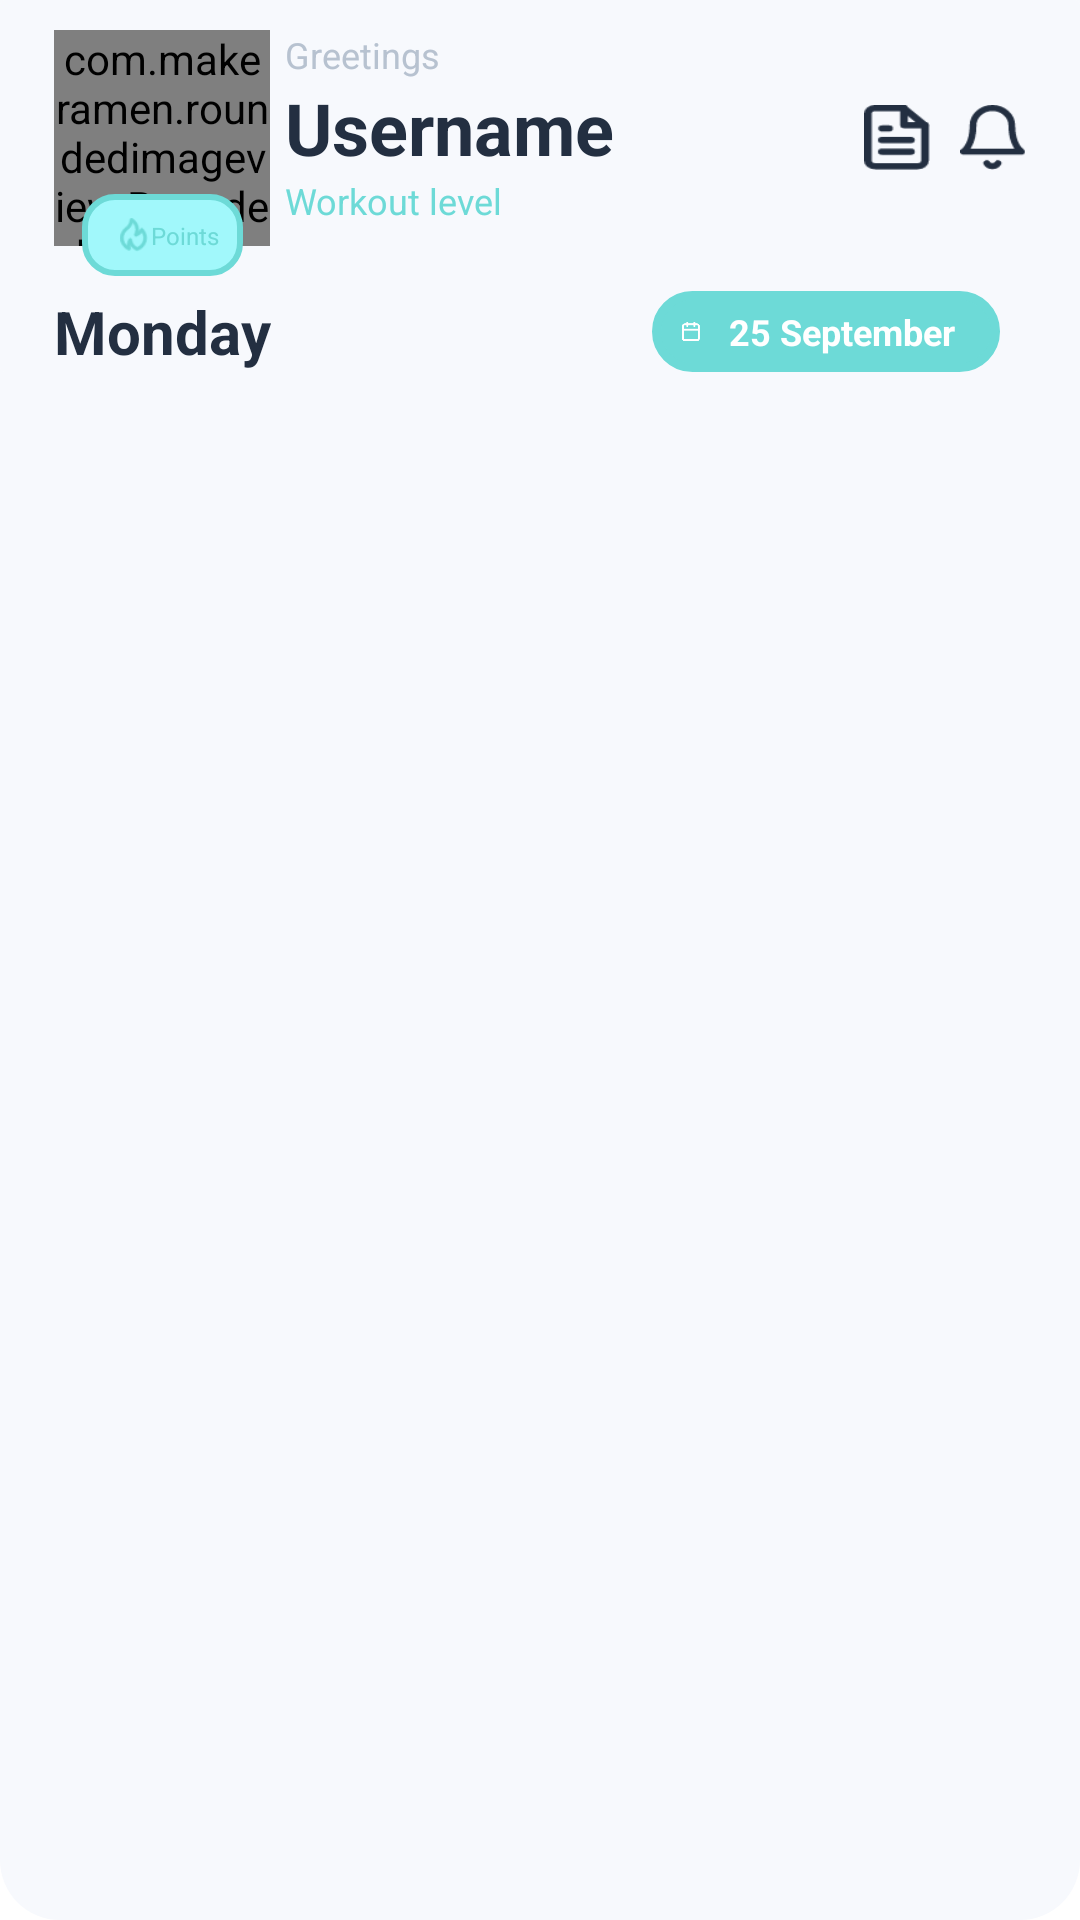

Icon click points for this 1080×1920 phone screenshot, format (x=x, y=y):
bell: (x=992, y=137)
document: (x=897, y=137)
fire: (x=133, y=234)
